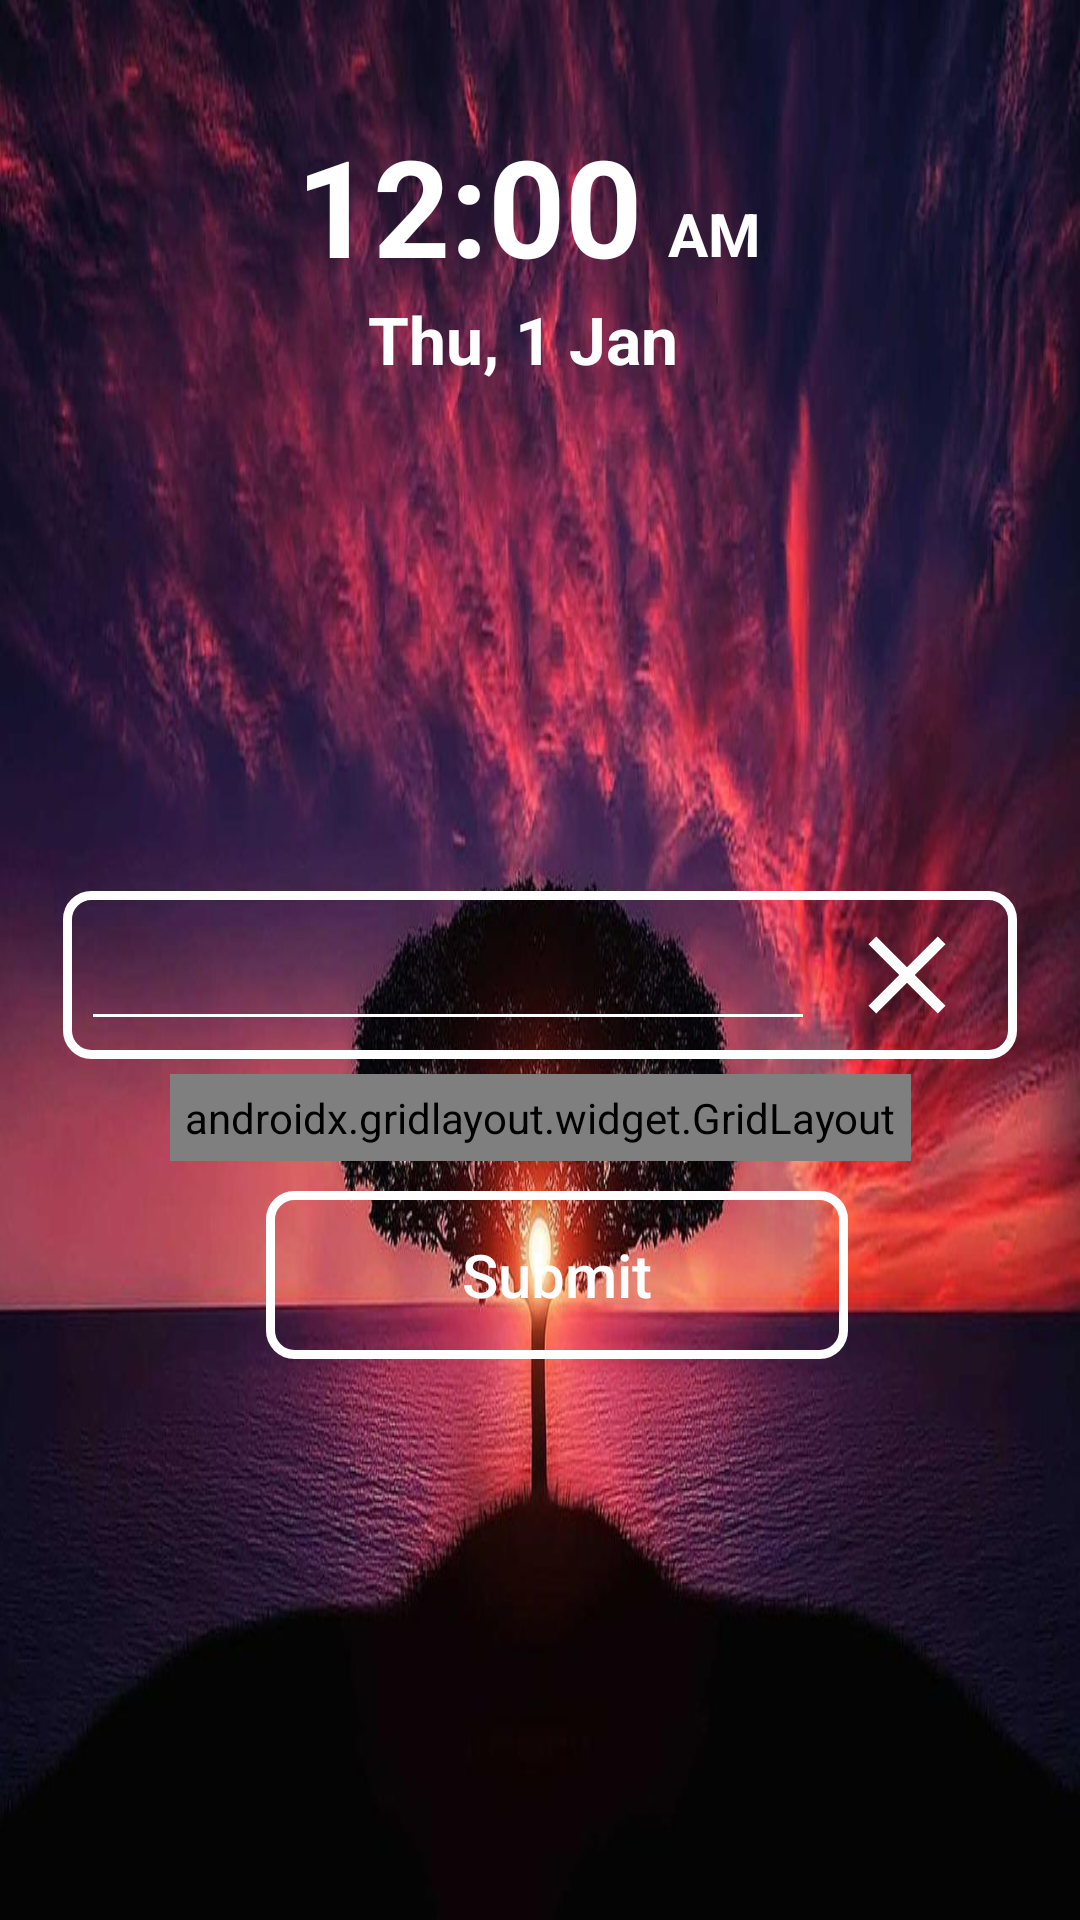

Screen size 1080*1920. Icon name, then its center in pixels as (x=x, y=y):
close: (x=907, y=975)
